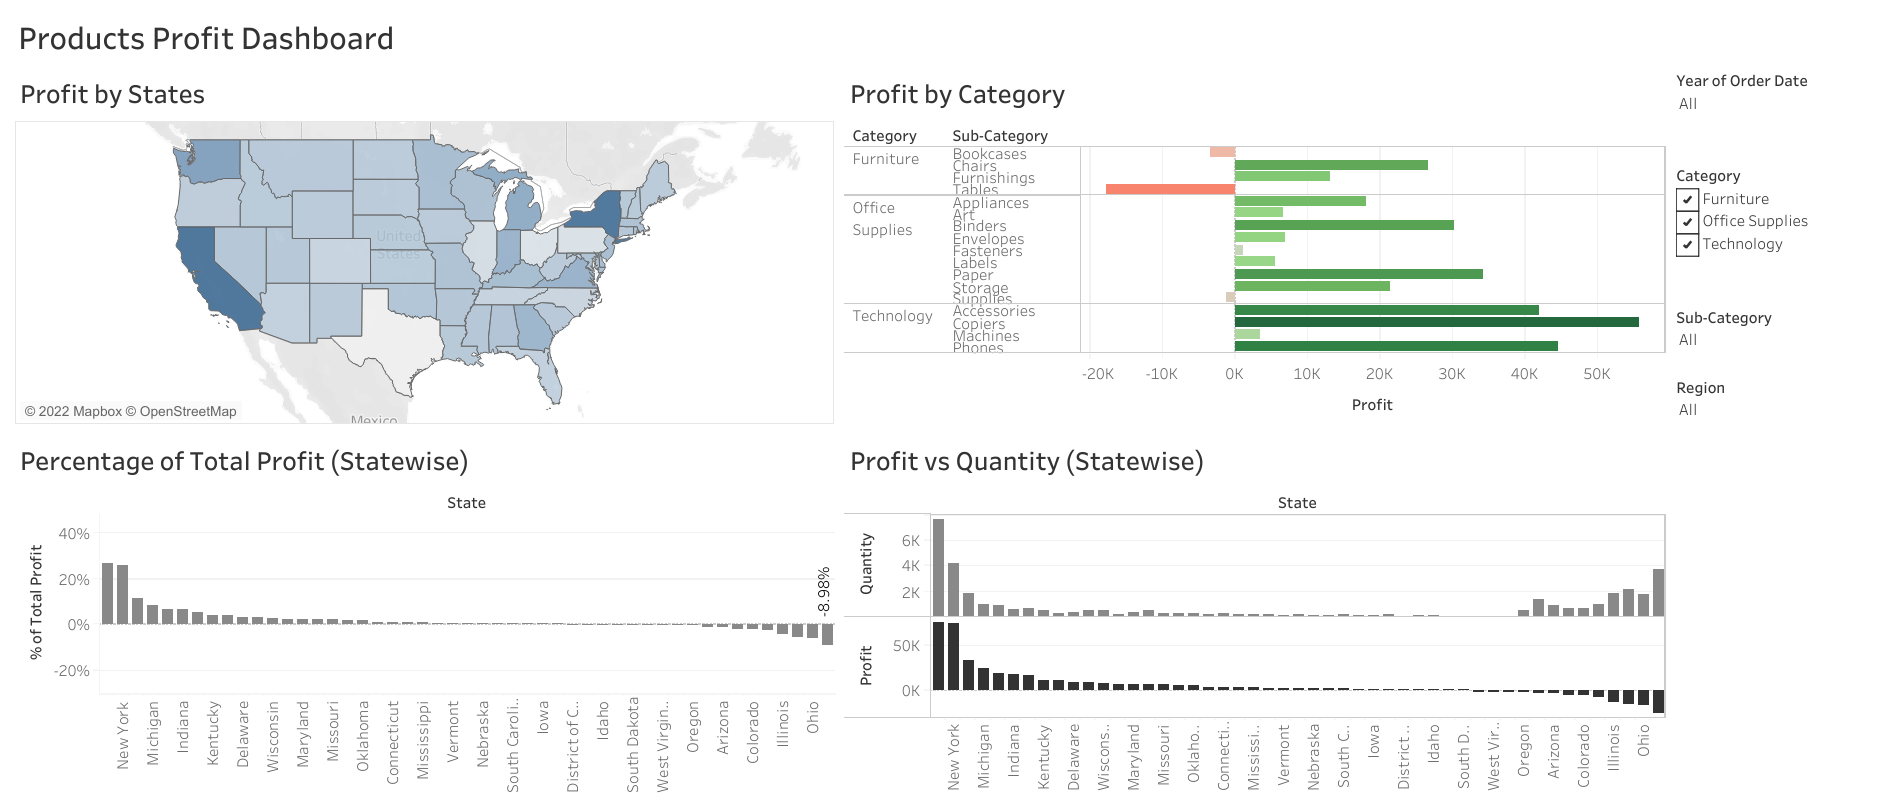

What the dashboard file says about the page in this screenshot:
{"tool":"tableau","page":{"name":"Products Profit Dashboard","canvas":[1000,1000],"units":"permille","ordinal":0},"visuals":[{"type":"title","box":[6.1,12.6,987.8,66]},{"type":"worksheet","title":"Profit by States","mark":"Automatic","box":[6.1,78.6,433,454.4]},{"type":"worksheet","title":"Profit by Category","mark":"Automatic","rows":["Category","Sub-Category"],"cols":["Profit"],"box":[439.1,78.6,433,454.4]},{"type":"filter","title":"Profit by States","param":"[federated.06erdig04m426t1f3nv0p0zaey6l].[yr:Order Date:ok]","box":[872.1,78.6,121.9,119.5]},{"type":"filter","title":"Profit by Category","param":"[federated.06erdig04m426t1f3nv0p0zaey6l].[none:Category:nk]","box":[872.1,198.1,121.9,177.7]},{"type":"filter","title":"Profit by Category","param":"[federated.06erdig04m426t1f3nv0p0zaey6l].[none:Sub-Category:nk]","box":[872.1,375.8,121.9,88]},{"type":"filter","title":"Profit by States","param":"[federated.06erdig04m426t1f3nv0p0zaey6l].[none:Region:nk]","box":[872.1,463.8,121.9,209.1]},{"type":"worksheet","title":"Percentage of Total Profit (Statewise)","mark":"Automatic","rows":["Profit"],"cols":["State"],"box":[6.1,533,433,454.4]},{"type":"worksheet","title":"Quantity vs Profit (Statewise)","mark":"Automatic","rows":["Quantity","Profit"],"cols":["State"],"box":[439.1,533,433,454.4]}]}

Visuals, with their boxes on the dashboard's canvas, which has no fixed pixel size, in thousandths of its width and height (x1, y1, x2, y2). These are canvas units, not pixel positions in the 1880x808 screenshot, which may show the page scaled, cropped or inside an application window:
title: [6, 13, 994, 79]
"Profit by States" worksheet: [6, 79, 439, 533]
"Profit by Category" worksheet: [439, 79, 872, 533]
"Profit by States" filter: [872, 79, 994, 198]
"Profit by Category" filter: [872, 198, 994, 376]
"Profit by Category" filter: [872, 376, 994, 464]
"Profit by States" filter: [872, 464, 994, 673]
"Percentage of Total Profit (Statewise)" worksheet: [6, 533, 439, 987]
"Quantity vs Profit (Statewise)" worksheet: [439, 533, 872, 987]
